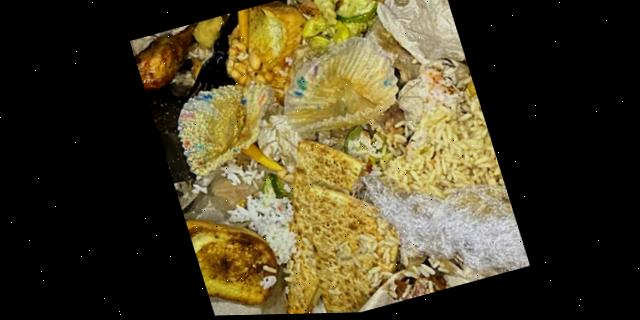Garbage: (128, 0, 527, 317)
